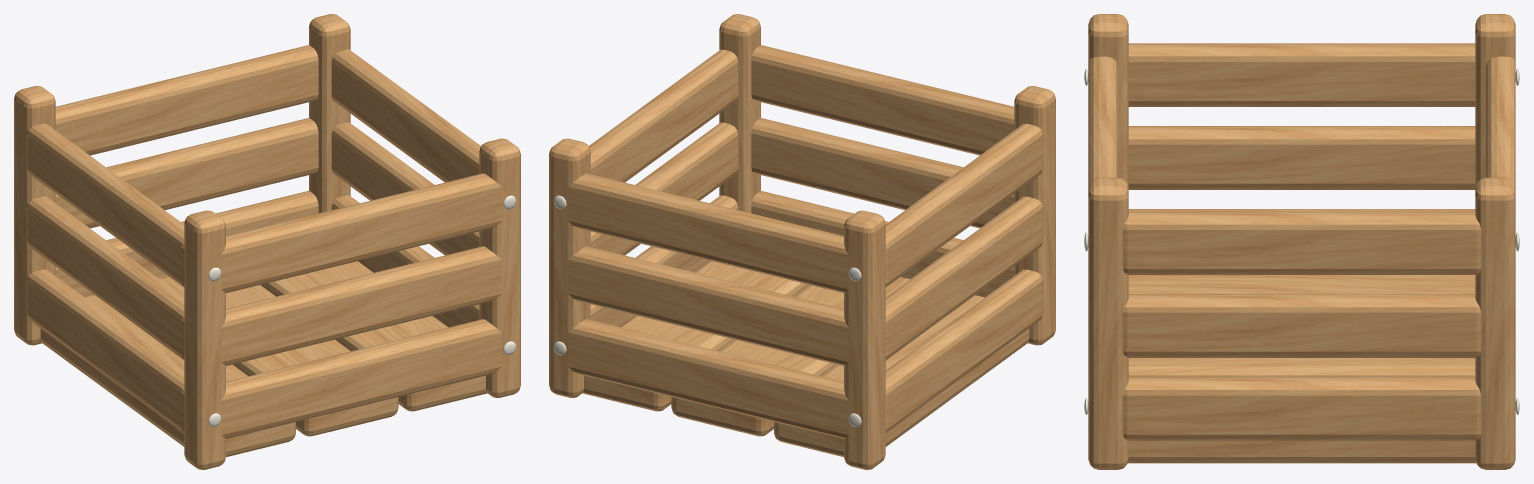
Rendered from crate.glb.
3 renders of one model, left to right at view 1: azimuth 30°, elevation 25°; view 2: azimuth 150°, elevation 25°; view 3: azimuth 270°, elevation 25°, orthographic. The views are drawn at different scales.
Visible parts, largest first — view 1: crate; view 2: crate; view 3: crate.
Boxes of the visible parts, <box> form: crate: <box>14,14,520,469</box>; crate: <box>549,14,1055,469</box>; crate: <box>1084,14,1519,469</box>.
Bounding box in the file's own units: 0.795 × 0.58 × 0.81.
2 materials, 1 textured.
